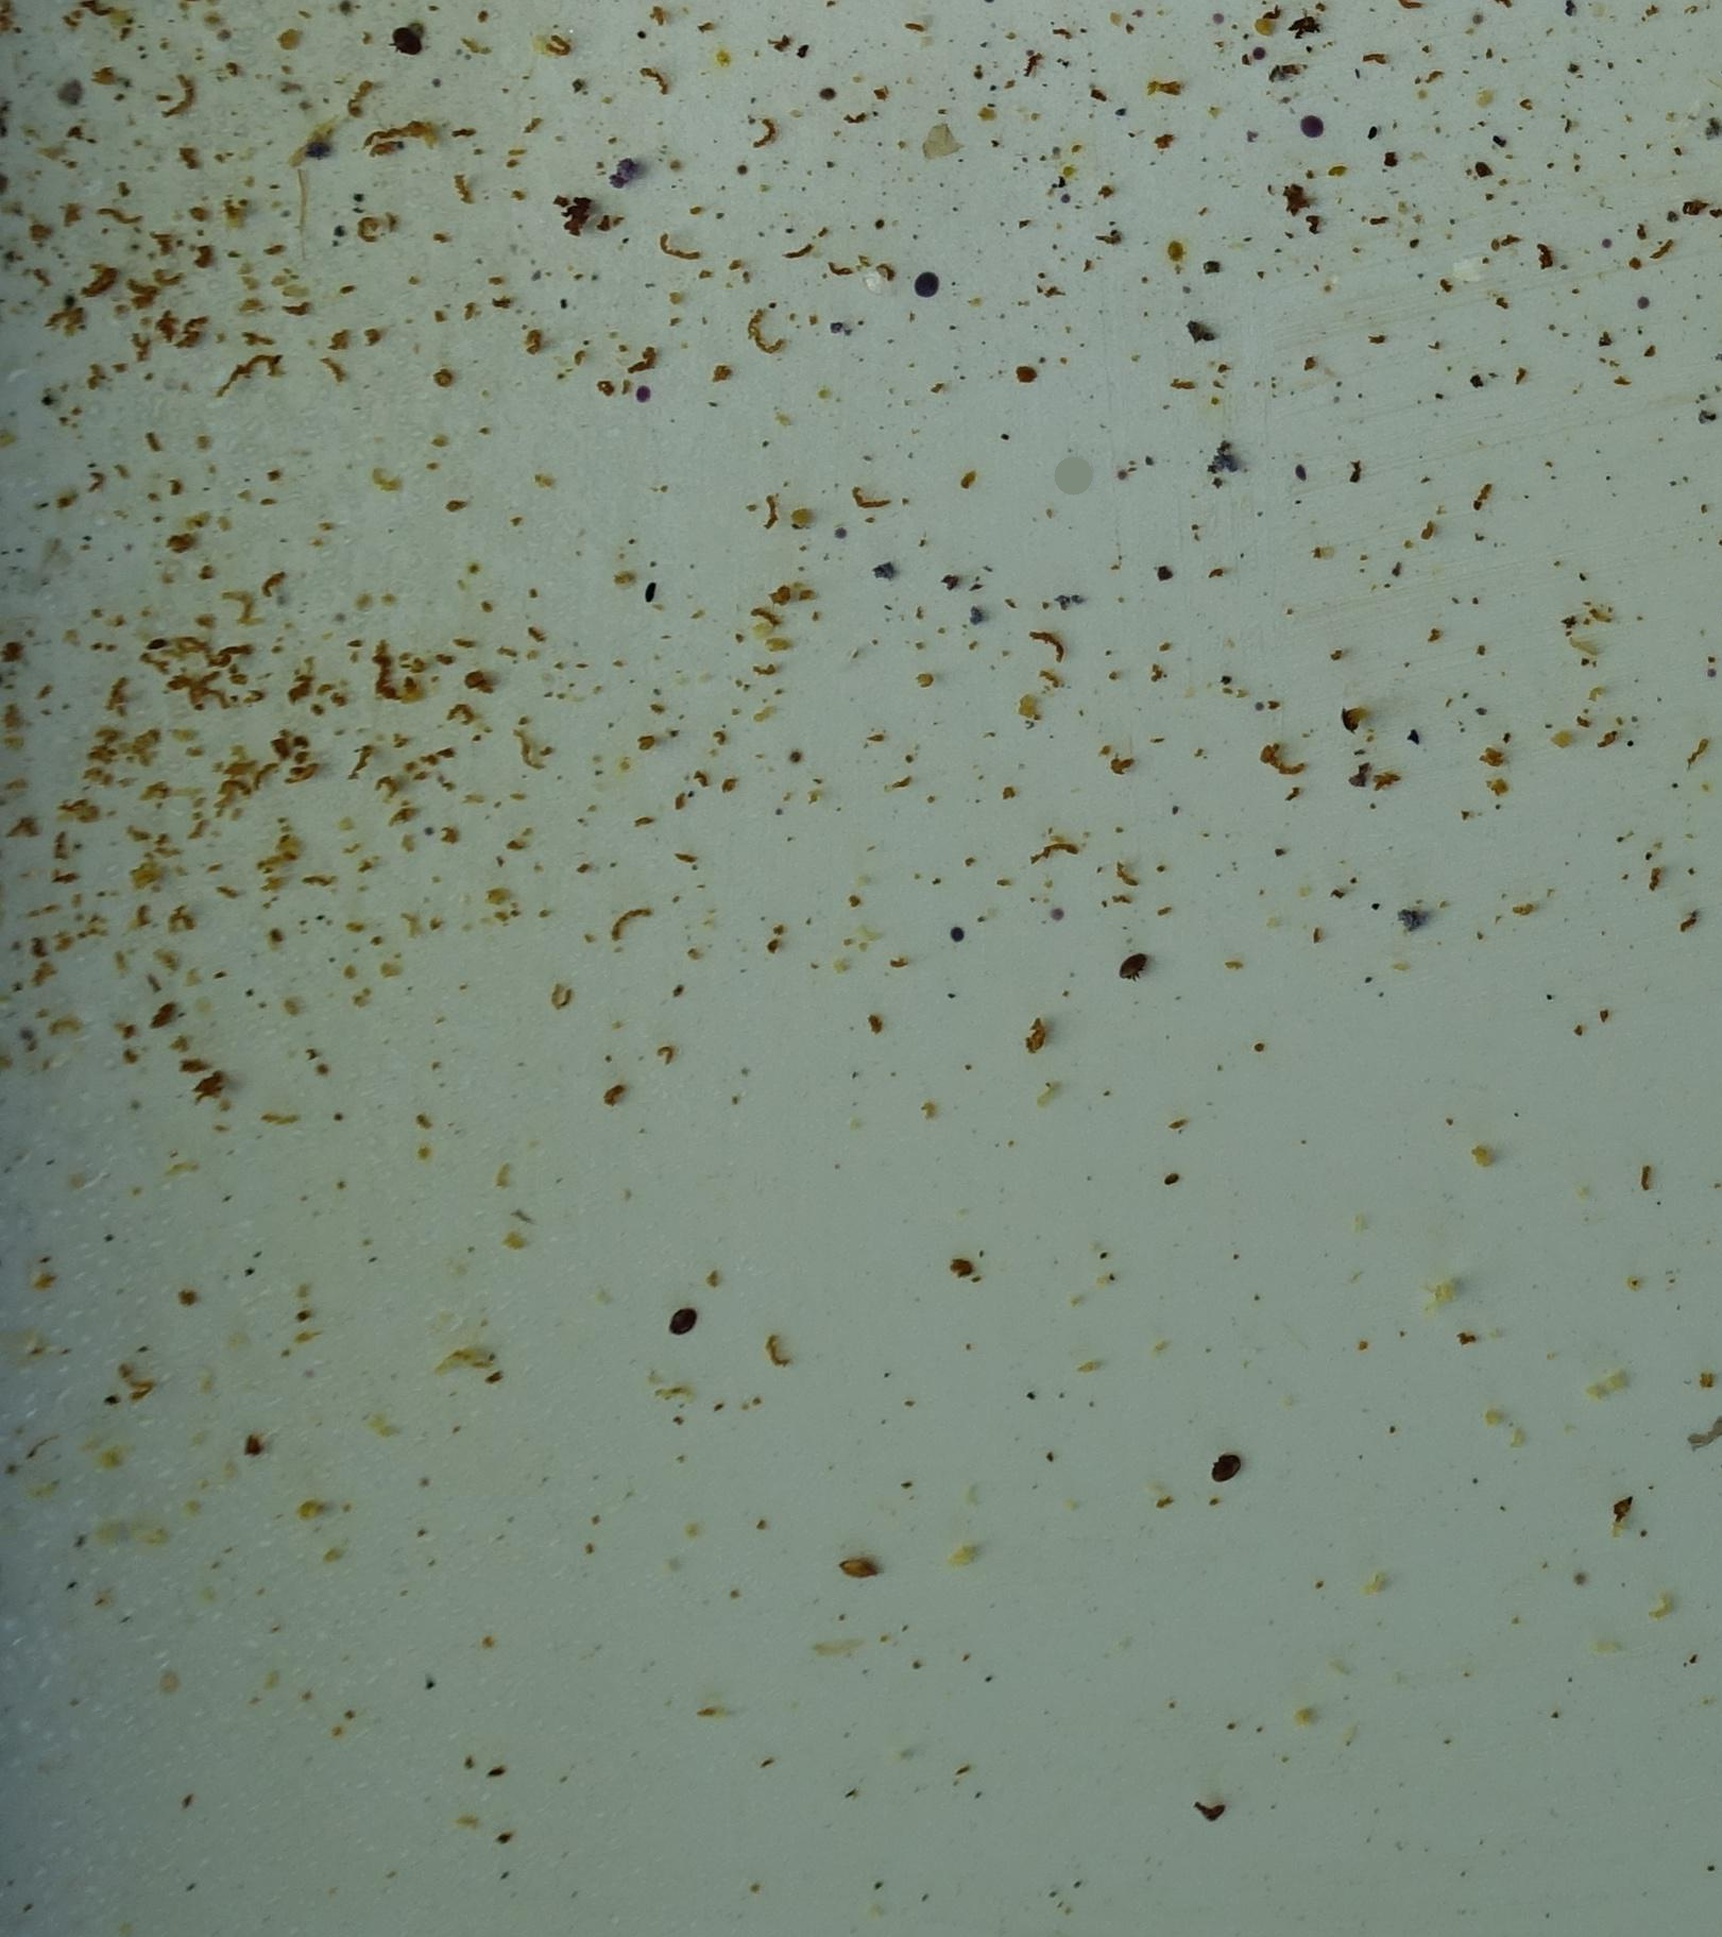Varroa: (1218, 1455, 1248, 1486), (397, 33, 421, 57), (1129, 959, 1150, 983), (676, 1310, 696, 1330)
